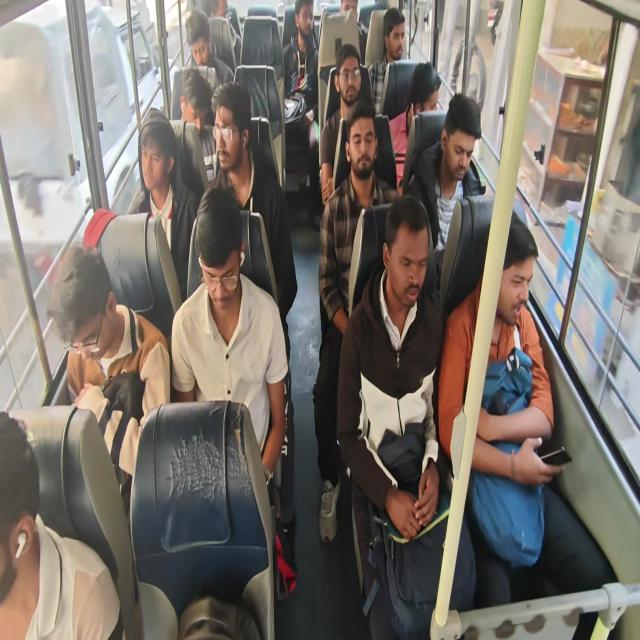person: (438, 212, 622, 638), (336, 194, 477, 638), (312, 99, 400, 543), (170, 185, 289, 491), (46, 242, 170, 492), (0, 410, 126, 639), (202, 80, 298, 362), (402, 92, 484, 254), (135, 114, 198, 300), (319, 43, 374, 205), (282, 0, 321, 228), (388, 61, 441, 191), (178, 67, 220, 188), (366, 7, 406, 114), (184, 9, 234, 90), (179, 67, 212, 130), (339, 0, 368, 64)
